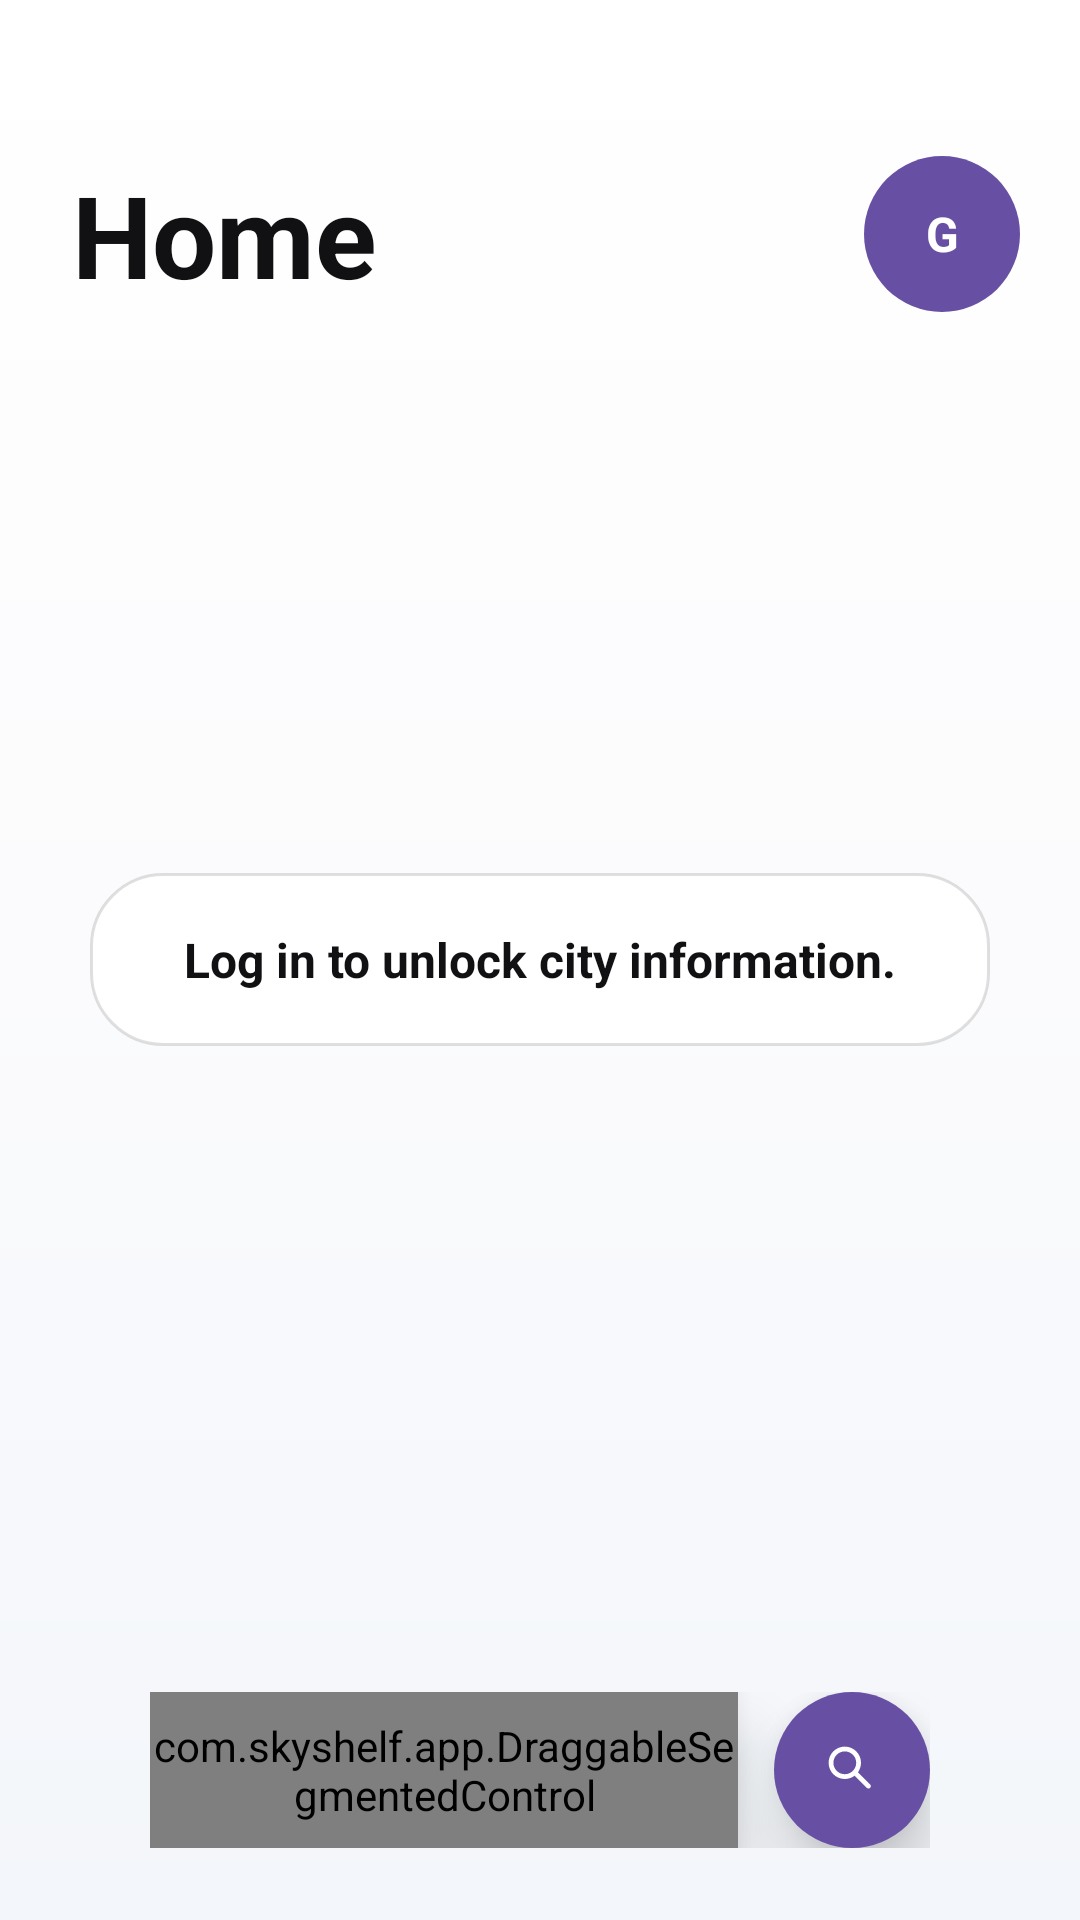

Where icons sit on this 1080px×1920px app screen, as (x1, y1, x2, y2):
Search city: (774, 1692, 930, 1848)
